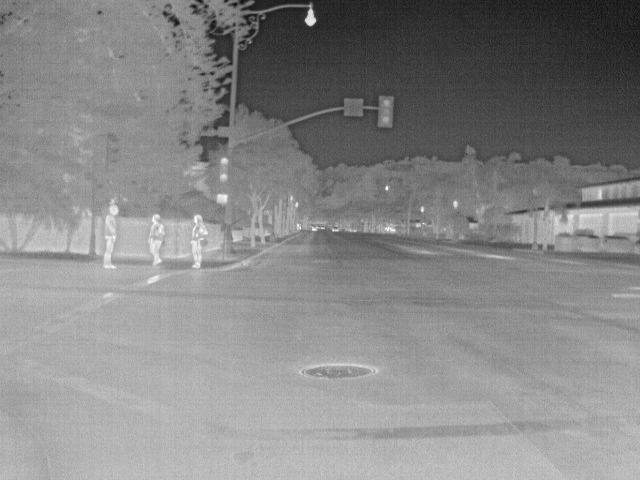person: (100, 203, 120, 273), (188, 212, 209, 271), (146, 210, 164, 267)
